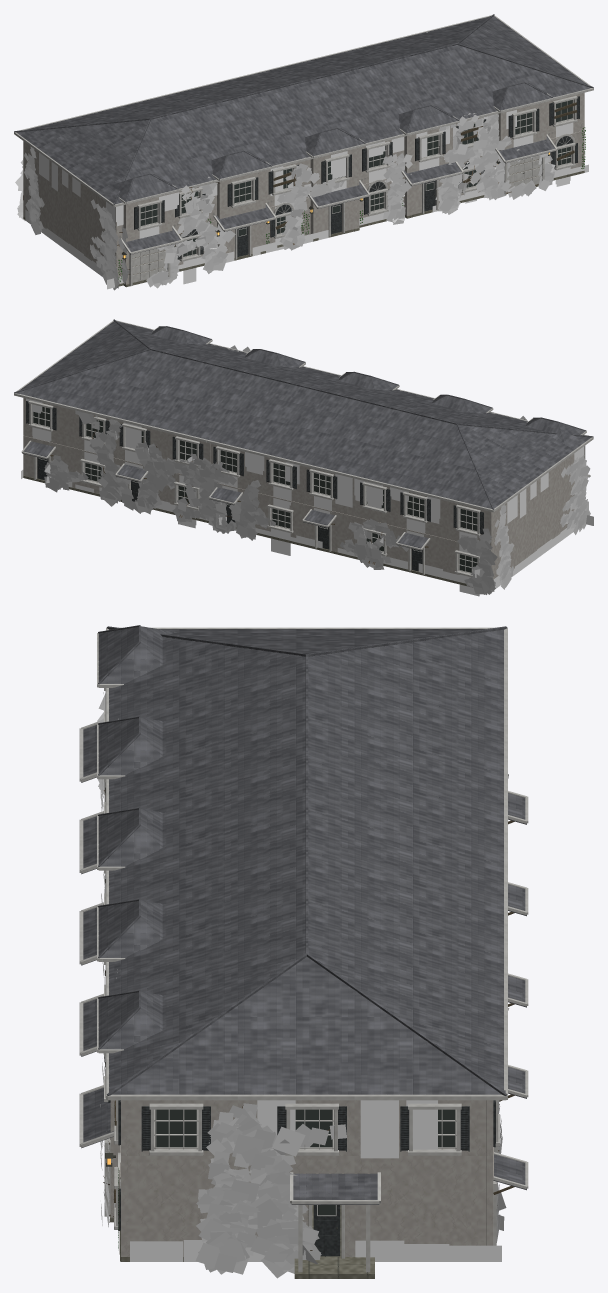
File: kit_row5_intact_v2.glb
3 views of the same model, one above another, from view 1: azimuth 30°, elevation 25°; view 2: azimuth 150°, elevation 25°; view 3: azimuth 270°, elevation 25° (orthographic). The views are drawn at different scales.
Parts seen in each view (by area): view 1: kit_row5_intact_Ivy, Roof_Left_Shingled.002, Unit_01_Batched.001, Roof_Middle_Shingled.003, Roof_Middle_Shingled.004, Roof_Middle_Shingled.005, Roof_Right_Shingled.004, kit_row5_intact_Grime, Unit_03_Batched.001, Unit_02_Batched.001, Unit_02_Batched.002, Unit_RightEnd_Base_DamageReady_Batched.002 (+13 smaller); view 2: kit_row5_intact_Ivy, Roof_Left_Shingled.002, Unit_01_Batched.001, Roof_Middle_Shingled.003, Roof_Middle_Shingled.004, Roof_Middle_Shingled.005, Roof_Right_Shingled.004, kit_row5_intact_Grime, Unit_RightEnd_Base_DamageReady_Batched.002, Unit_02_Batched.001, Unit_03_Batched.001, Unit_02_Batched.002 (+10 smaller); view 3: Roof_Right_Shingled.004, Roof_Middle_Shingled.004, Roof_Middle_Shingled.003, Roof_Middle_Shingled.005, Unit_RightEnd_Base_DamageReady_Batched.002, Roof_Left_Shingled.002, kit_row5_intact_Ivy, kit_row5_intact_Grime, Right_Stucco_Frame.001_INTACT.002, Roof_Right_Eave_Trim.004, Projecting_Bay_Shingle_Cap.007, Projecting_Bay_Shingle_Cap.008 (+15 smaller).
Boxes of the visible parts, box(x1,y1,x2,y2) form: kit_row5_intact_Ivy: box(15, 32, 555, 290); Roof_Left_Shingled.002: box(16, 108, 212, 204); Unit_01_Batched.001: box(23, 141, 211, 287); Roof_Middle_Shingled.003: box(114, 85, 306, 180); Roof_Middle_Shingled.004: box(209, 62, 399, 157); Roof_Middle_Shingled.005: box(302, 39, 493, 134); Roof_Right_Shingled.004: box(396, 16, 590, 111); kit_row5_intact_Grime: box(25, 110, 588, 289); Unit_03_Batched.001: box(303, 140, 397, 241); Unit_02_Batched.001: box(210, 161, 304, 260); Unit_02_Batched.002: box(397, 117, 486, 218); Unit_RightEnd_Base_DamageReady_Batched.002: box(495, 102, 557, 194); kit_row5_intact_Ivy: box(44, 345, 590, 594); Roof_Left_Shingled.002: box(395, 413, 590, 508); Unit_01_Batched.001: box(396, 446, 590, 587); Roof_Middle_Shingled.003: box(301, 390, 492, 485); Roof_Middle_Shingled.004: box(208, 367, 399, 462); Roof_Middle_Shingled.005: box(114, 345, 305, 439); Roof_Right_Shingled.004: box(16, 321, 212, 416); kit_row5_intact_Grime: box(21, 398, 593, 596); Unit_RightEnd_Base_DamageReady_Batched.002: box(21, 398, 116, 496); Unit_02_Batched.001: box(302, 466, 397, 569); Unit_03_Batched.001: box(208, 443, 303, 546); Unit_02_Batched.002: box(115, 421, 210, 522); Roof_Right_Shingled.004: box(109, 943, 505, 1094); Roof_Middle_Shingled.004: box(109, 760, 503, 907); Roof_Middle_Shingled.003: box(109, 669, 503, 815); Roof_Middle_Shingled.005: box(109, 852, 503, 998); Unit_RightEnd_Base_DamageReady_Batched.002: box(79, 1053, 528, 1278); Roof_Left_Shingled.002: box(109, 629, 503, 724); kit_row5_intact_Ivy: box(97, 692, 509, 1278); kit_row5_intact_Grime: box(130, 1100, 501, 1261); Right_Stucco_Frame.001_INTACT.002: box(127, 1100, 225, 1256); Roof_Right_Eave_Trim.004: box(106, 941, 507, 1100); Projecting_Bay_Shingle_Cap.007: box(98, 626, 176, 683); Projecting_Bay_Shingle_Cap.008: box(98, 717, 162, 775).
Size of the model in its own units: 39.23 by 9.71 by 15.36.
Materials: 15 (6 with a texture image).
